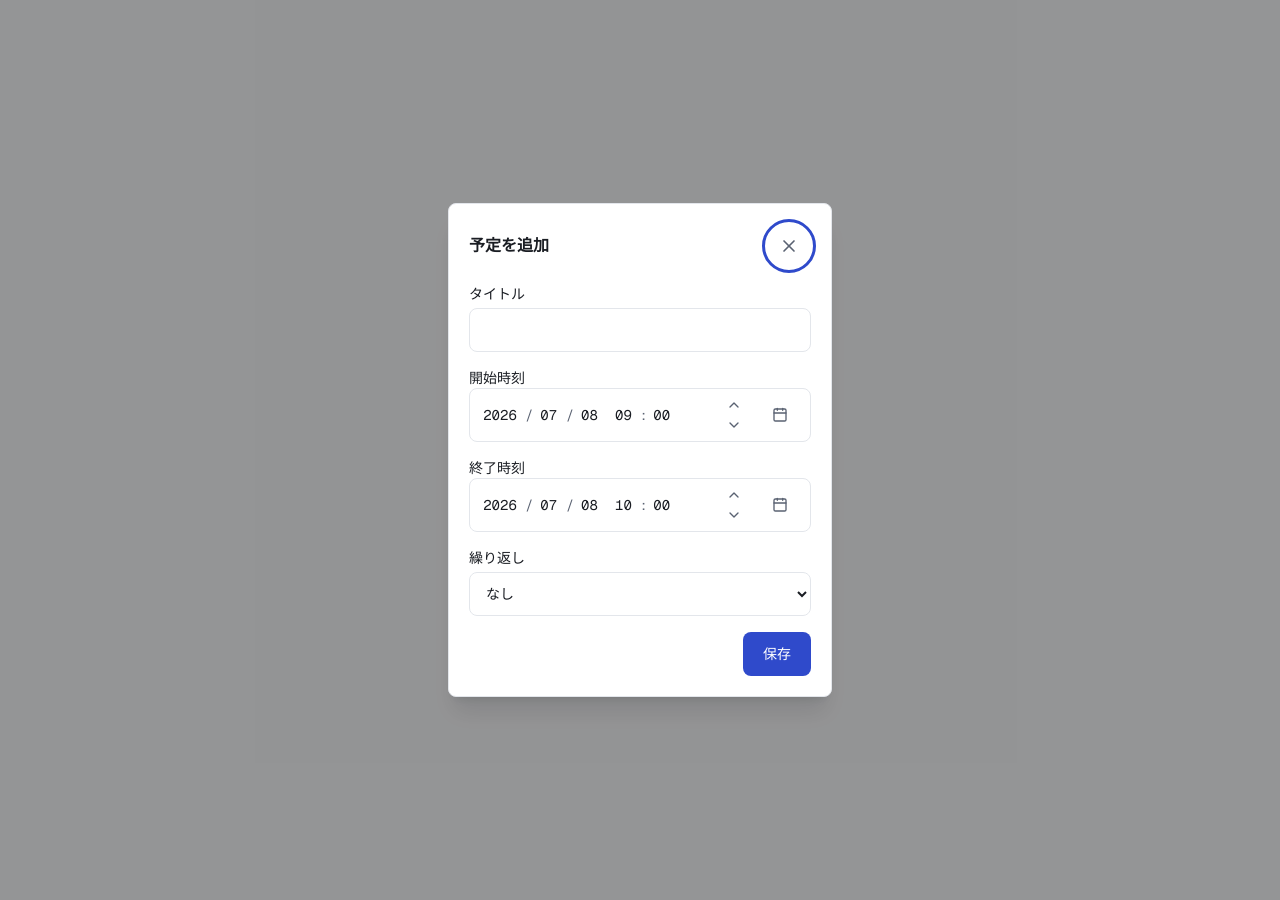
Scenario: 繰り返しUIの表示(S11) › S11: 「毎週」を選択すると曜日チップと終了日入力が表示され、初期選択は開始日時の曜日になる
Select "毎週" in the dropdown labelled "繰り返し". click: (640, 594)
box: [469,572,811,616]
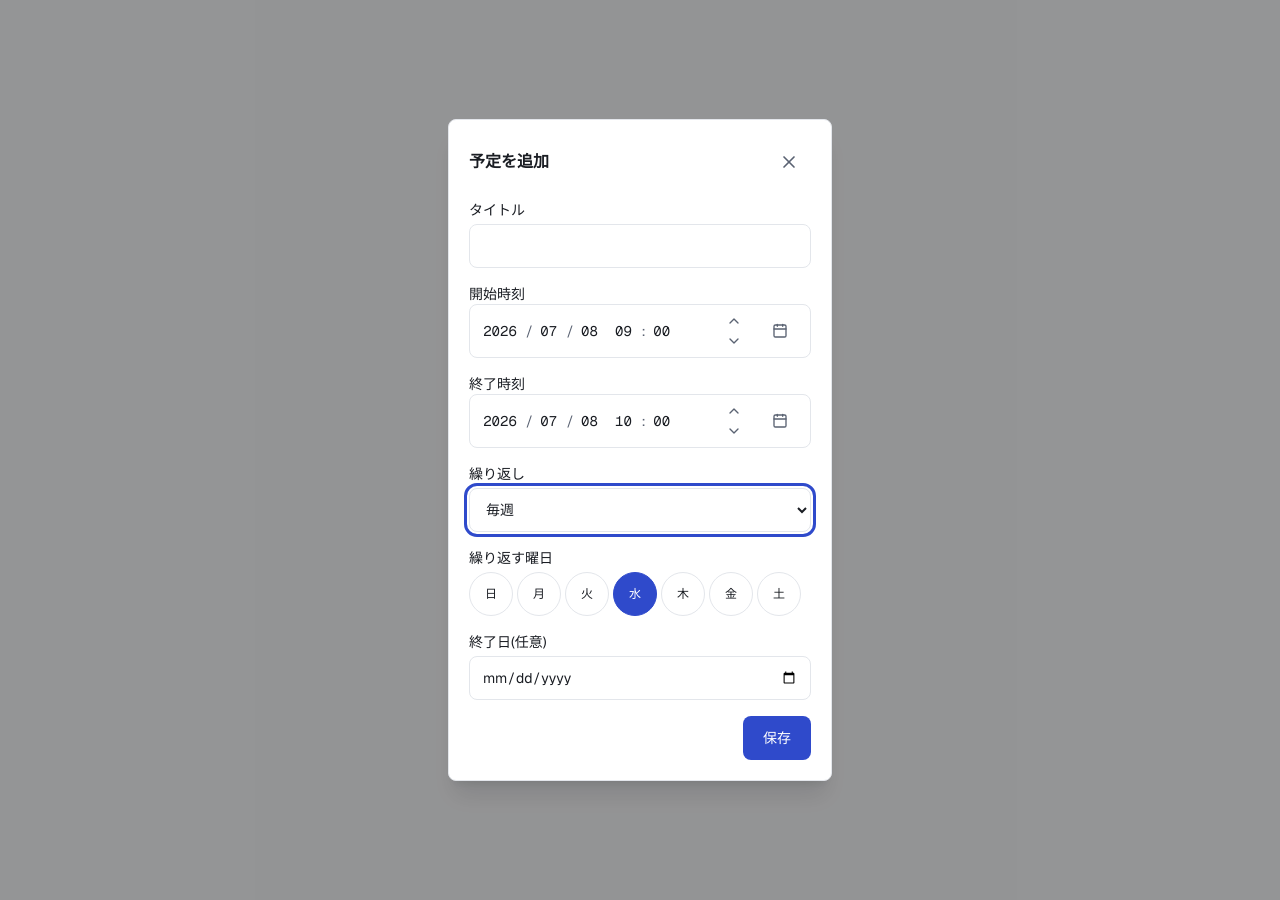
Result: the date field labelled "終了日(任意)" is shown at [469,656,811,700]
